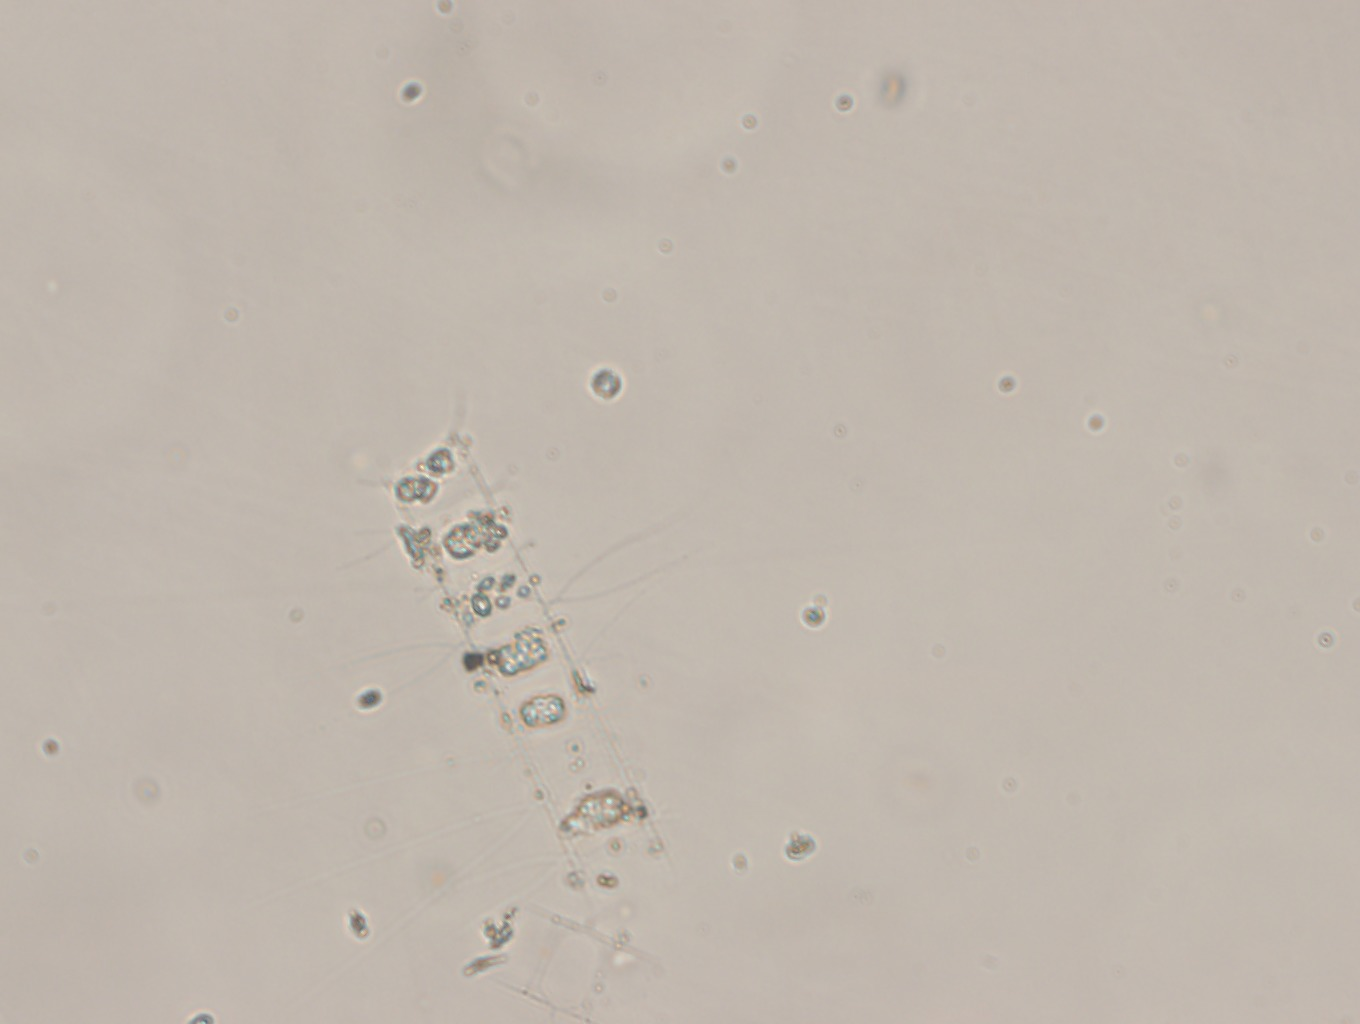chaetoceros: (337, 387, 704, 914)
